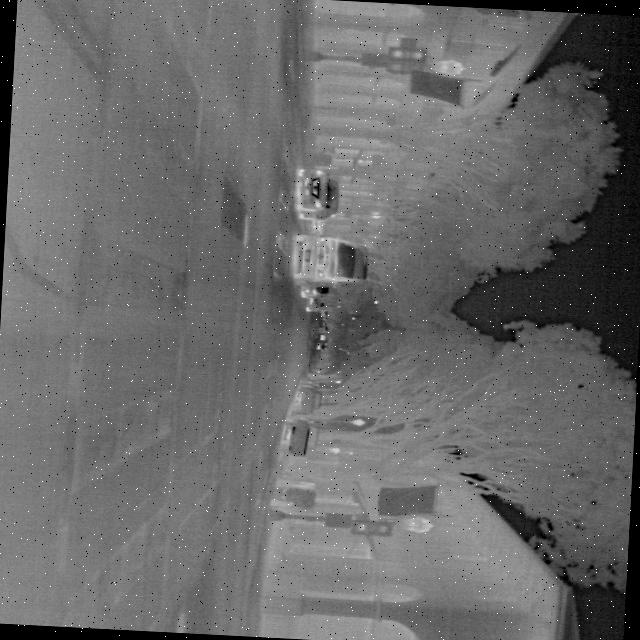Vehicle: (289, 232, 372, 292), (291, 166, 344, 223)
